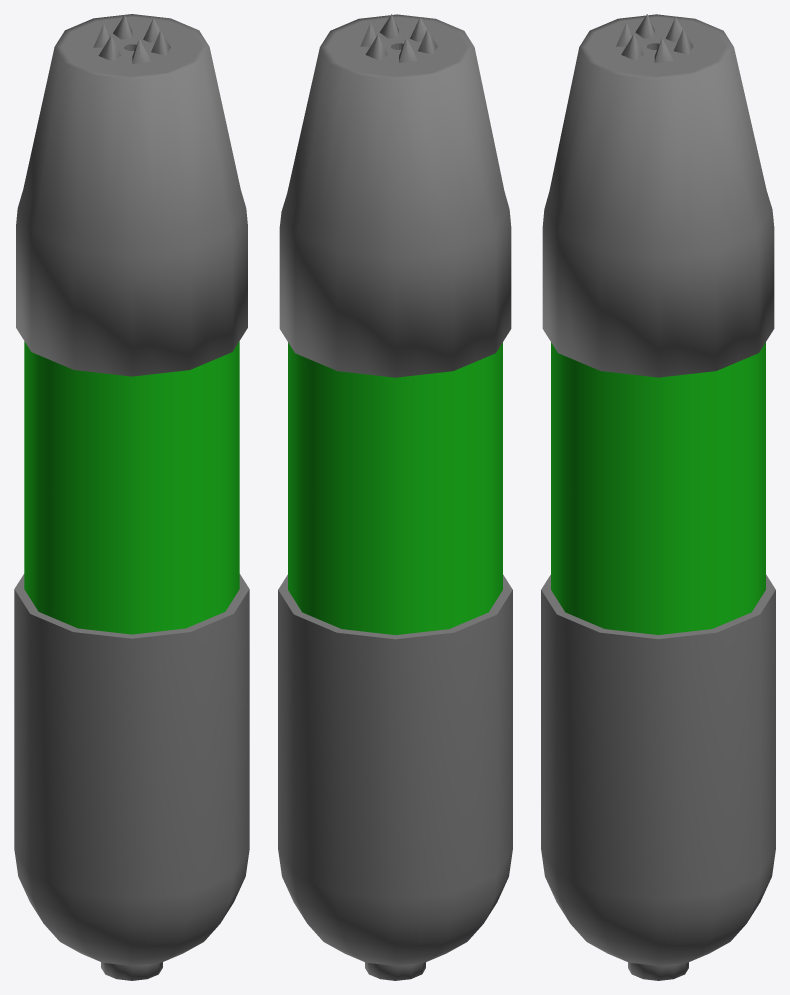
The model's file is HealthDrop.fbx.
The picture shows the model from 3 angles, left to right: view 1: azimuth 30°, elevation 25°; view 2: azimuth 150°, elevation 25°; view 3: azimuth 270°, elevation 25°; orthographic projection.
Visible parts, largest first — view 1: Capsule001; view 2: Capsule001; view 3: Capsule001.
Boxes of the visible parts, x1,y1,x2,y2 form: Capsule001: [14, 14, 249, 980]; Capsule001: [278, 14, 512, 980]; Capsule001: [541, 14, 775, 980].
Size of the model in its own units: 1.64 by 7.24 by 1.64.
